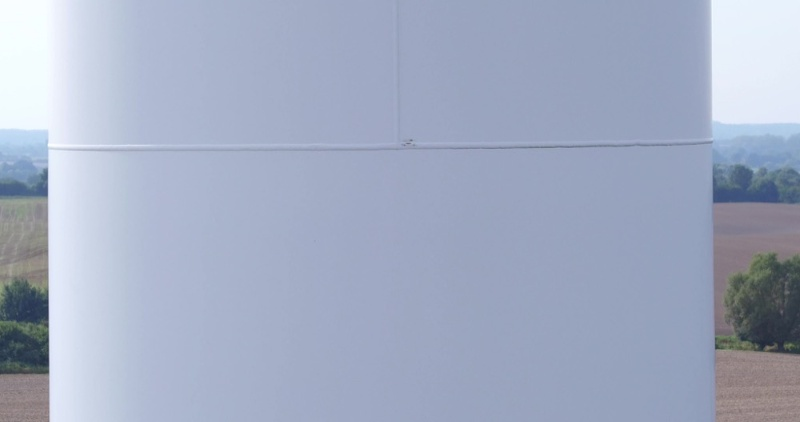weldseam: (48, 133, 715, 157), (388, 1, 404, 152)
